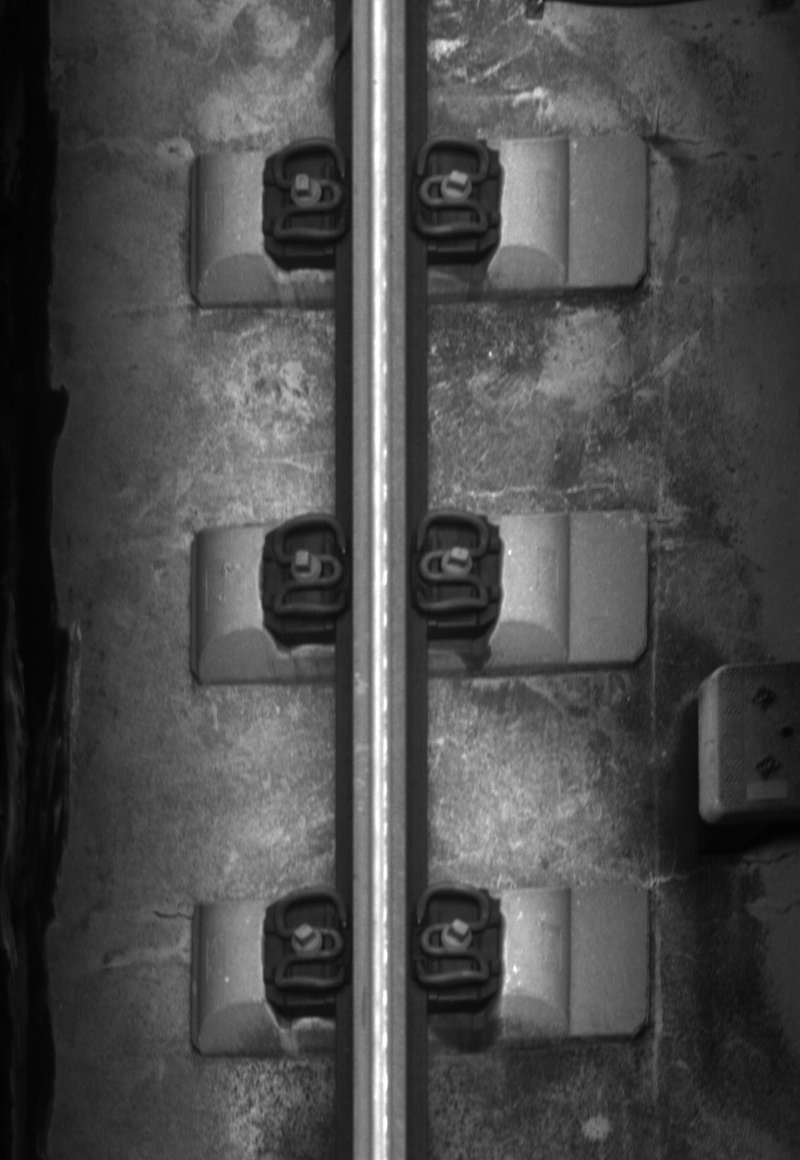l_faster: (267, 882, 352, 1000), (266, 134, 352, 250), (267, 508, 351, 626)
r_faster: (410, 881, 494, 991), (410, 507, 492, 617), (411, 133, 493, 243)
